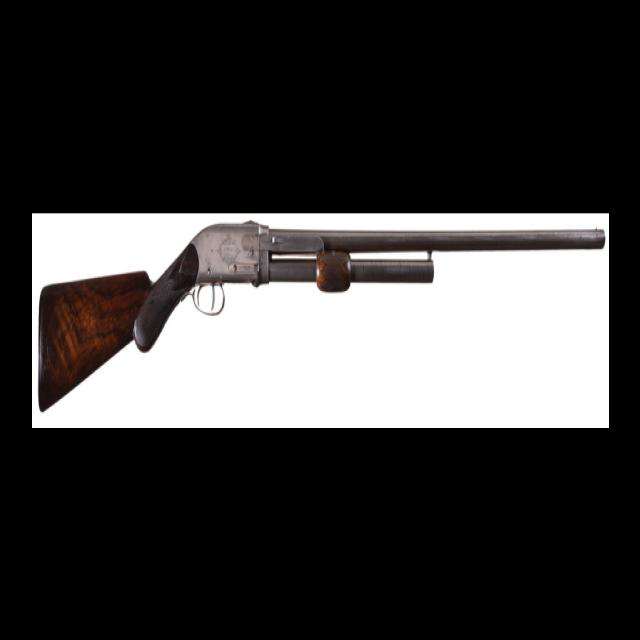ShotGun: (39, 220, 607, 406)
